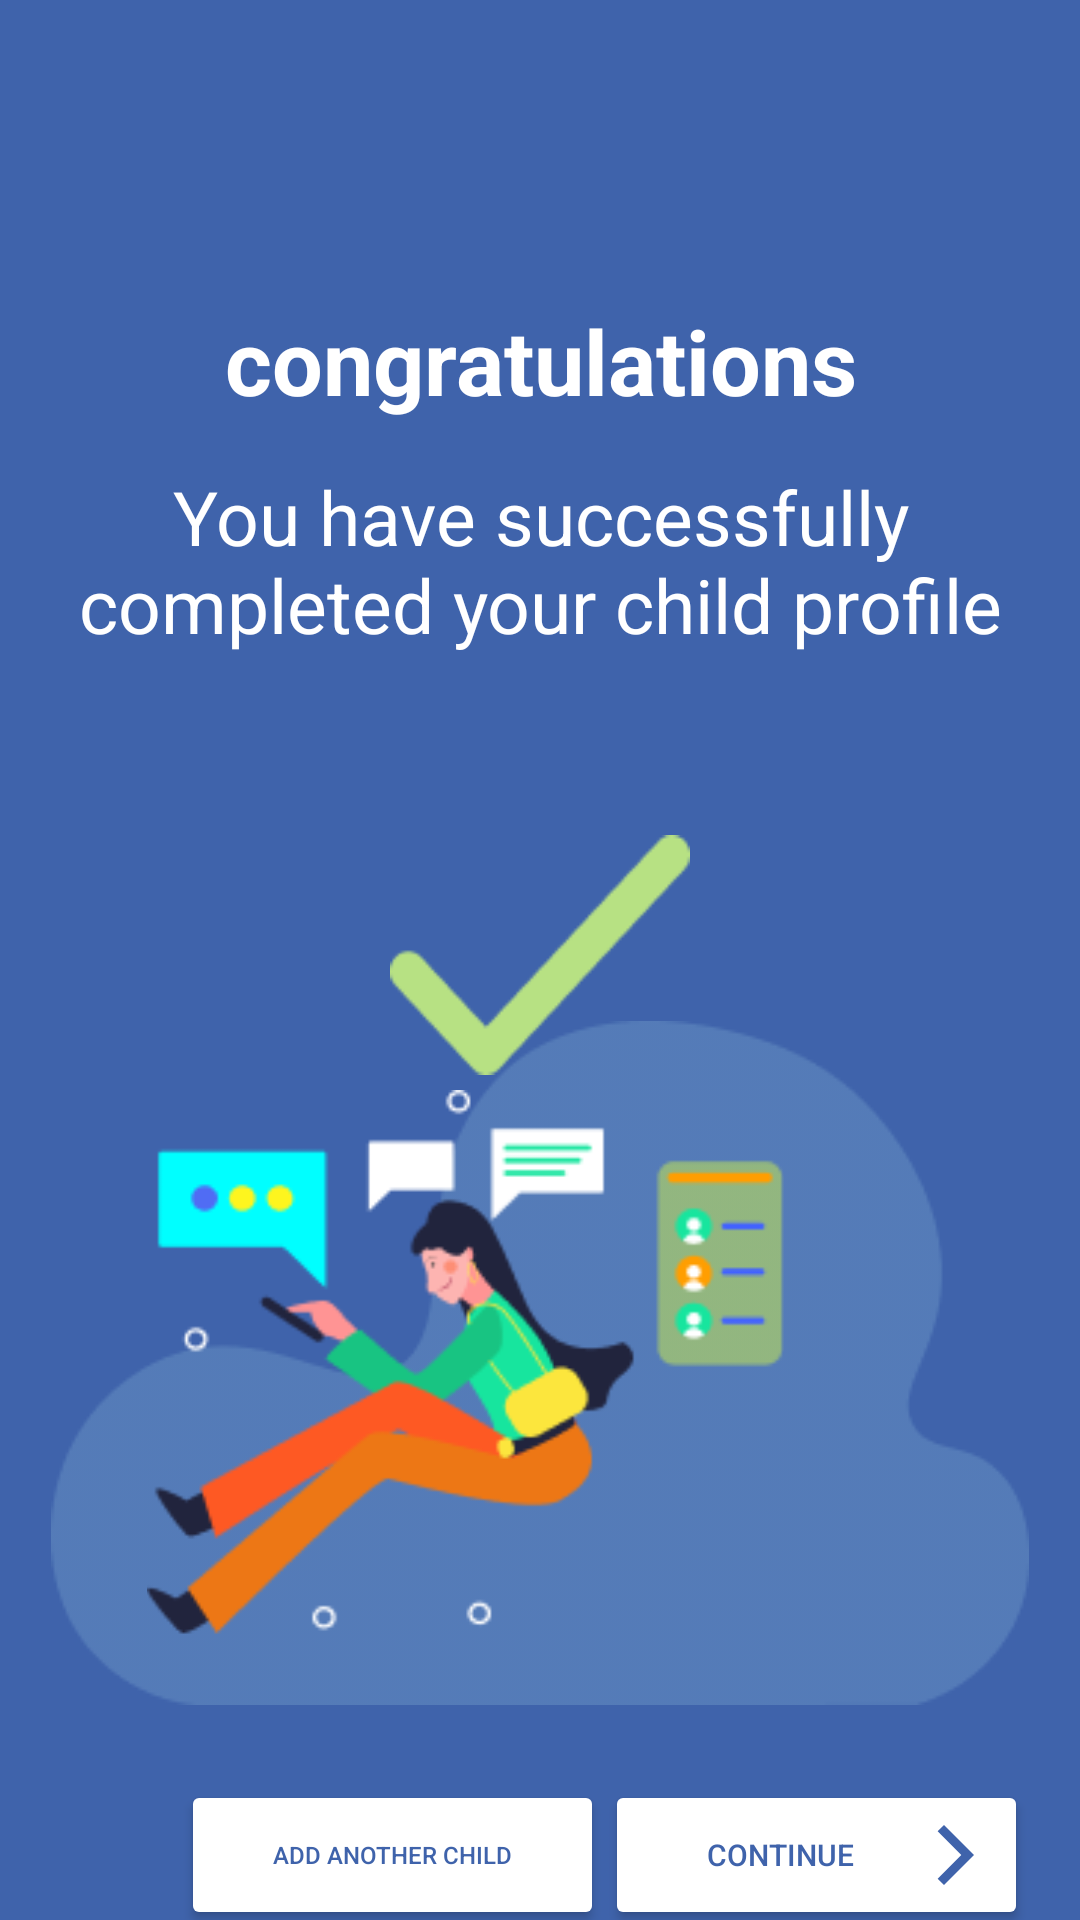

Screen size 1080 × 1920. Icon name, then its center in pixels as (x,y):
tickvector: (540,970)
